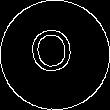O_S: (30, 27, 80, 83)
